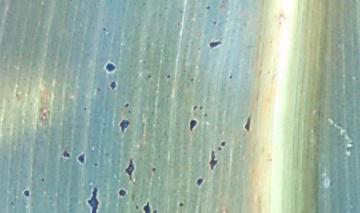tarspot: (85, 185, 101, 213), (123, 156, 138, 185), (208, 148, 218, 173), (242, 112, 253, 134), (117, 118, 131, 135), (102, 60, 117, 73), (75, 151, 87, 167), (206, 39, 223, 49), (188, 117, 198, 134), (140, 201, 151, 213), (194, 176, 205, 187), (108, 80, 118, 92), (116, 188, 128, 198), (61, 148, 71, 160), (20, 188, 31, 197), (122, 101, 131, 109), (219, 140, 227, 148), (80, 104, 88, 112), (191, 103, 198, 112), (227, 73, 234, 81), (164, 73, 171, 81), (187, 75, 194, 83), (101, 24, 108, 32), (39, 176, 46, 183), (198, 103, 204, 111), (210, 20, 218, 26), (134, 203, 140, 211), (104, 149, 110, 157), (202, 111, 208, 118), (8, 199, 14, 206), (95, 86, 101, 93), (151, 208, 158, 213), (146, 73, 151, 80), (178, 201, 183, 207), (204, 4, 210, 9), (93, 162, 98, 168), (151, 167, 156, 172)
